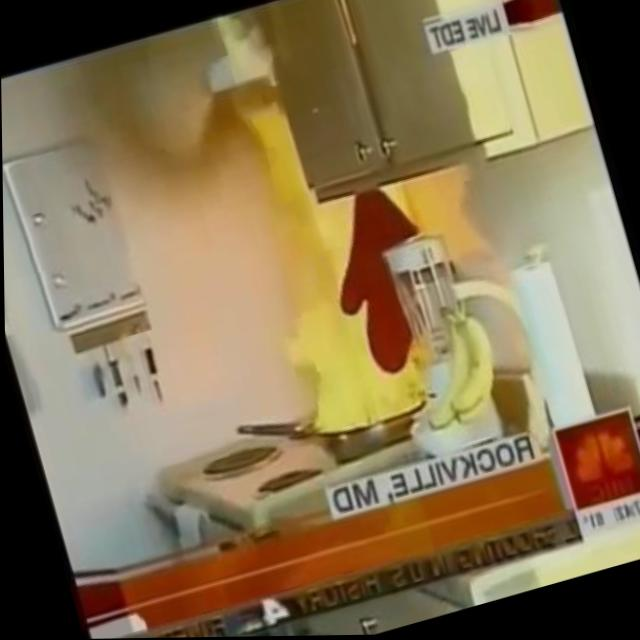fire: (180, 76, 455, 456)
